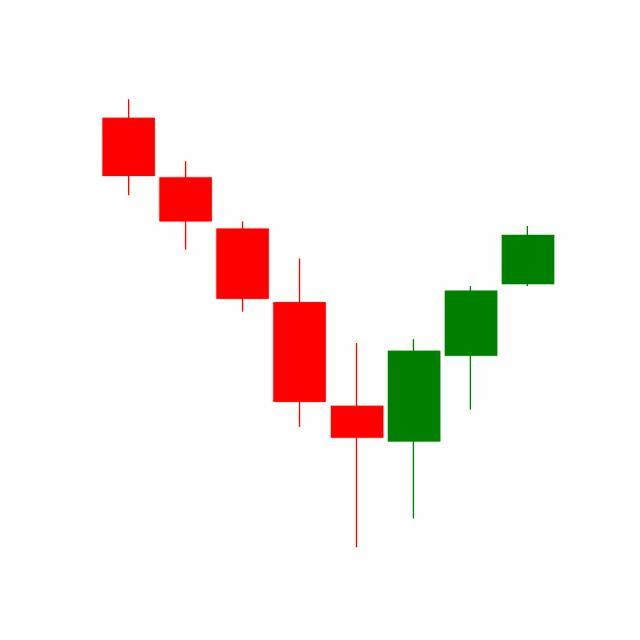Three Outside Up-Down: (328, 283, 500, 548)
